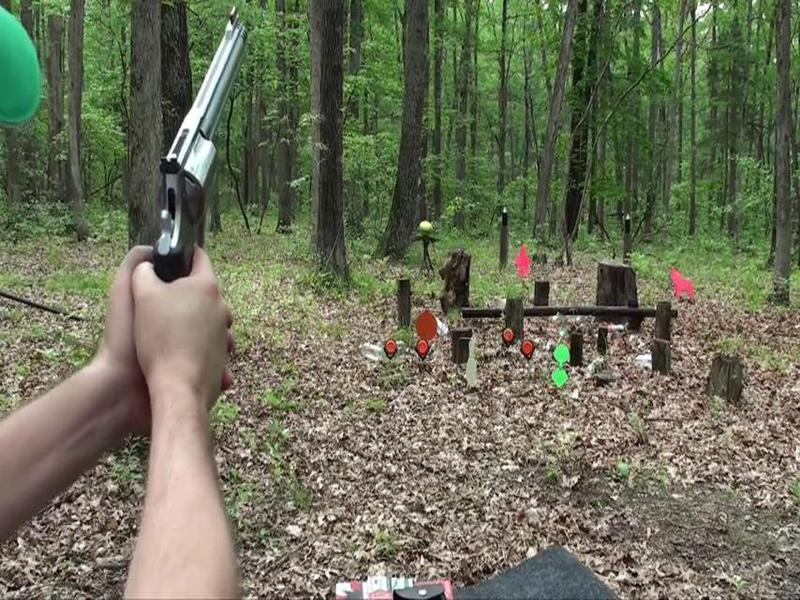Revolver: (123, 12, 280, 311)
